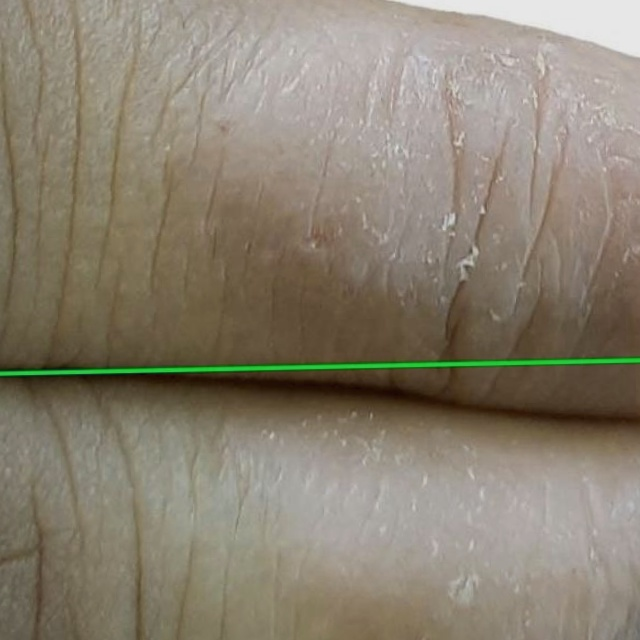Eczema: (0, 361, 639, 639)
